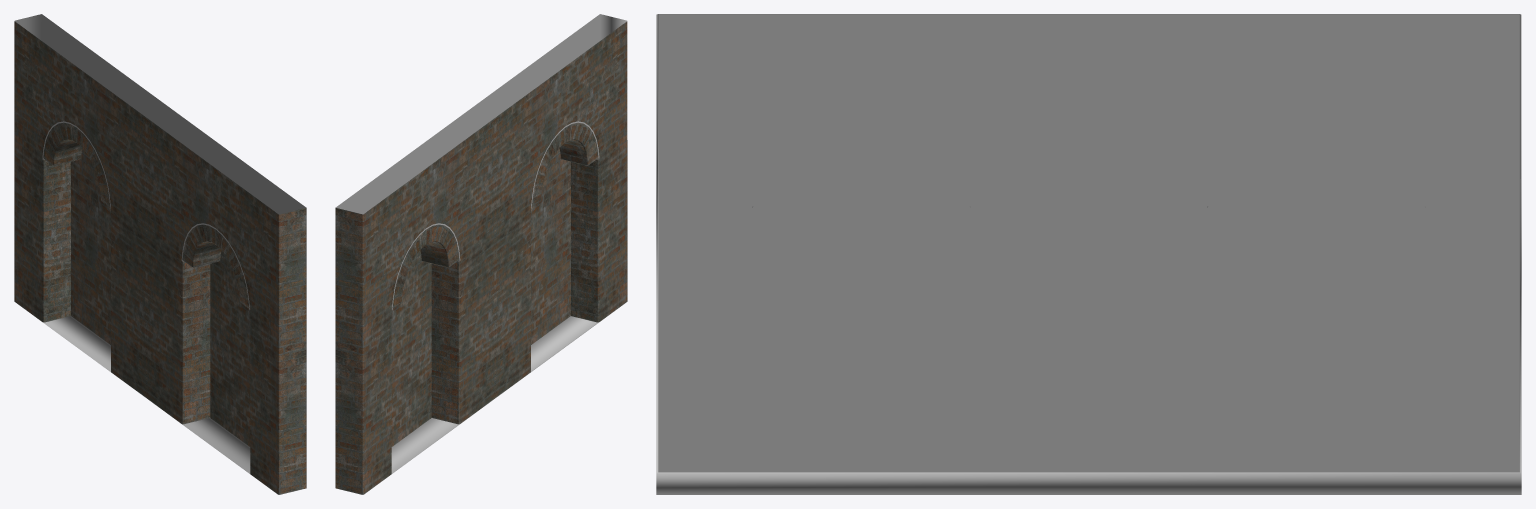
Rendered from SM_Wall_01.gltf.
The picture shows the model from 3 angles, left to right: view 1: azimuth 30°, elevation 25°; view 2: azimuth 150°, elevation 25°; view 3: azimuth 270°, elevation 25°; orthographic projection. The views are drawn at different scales.
Parts seen in each view (by area): view 1: SM_Wall_01_LOD0, SM_Wall_01_ConvexHulls; view 2: SM_Wall_01_LOD0, SM_Wall_01_ConvexHulls; view 3: SM_Wall_01_ConvexHulls.
Part boxes in pixels (x1=…): SM_Wall_01_LOD0: x1=14, y1=21, x2=306, y2=494; SM_Wall_01_ConvexHulls: x1=14, y1=14, x2=306, y2=494; SM_Wall_01_LOD0: x1=335, y1=21, x2=627, y2=494; SM_Wall_01_ConvexHulls: x1=335, y1=14, x2=627, y2=494; SM_Wall_01_ConvexHulls: x1=656, y1=14, x2=1521, y2=494.
Size of what is drawn, in the model's own units: 0.5226 by 5 by 8.55.
